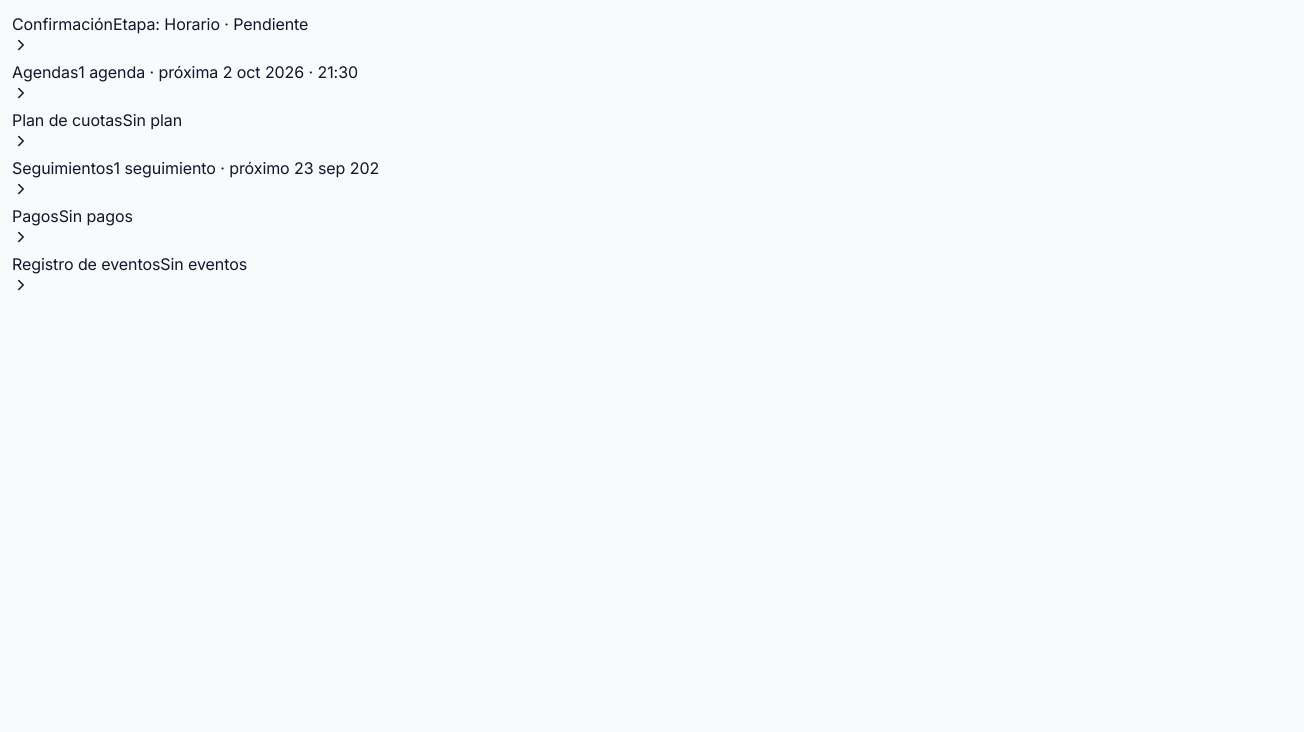
Test case: corregir una agenda en la fila › si el backend rechaza, el editor se queda abierto con lo elegido y dice por qué
Click the button "Agendas1 agenda · próxima 2 oct 2026 · 21:30": click(185, 81) [12,60,358,102]
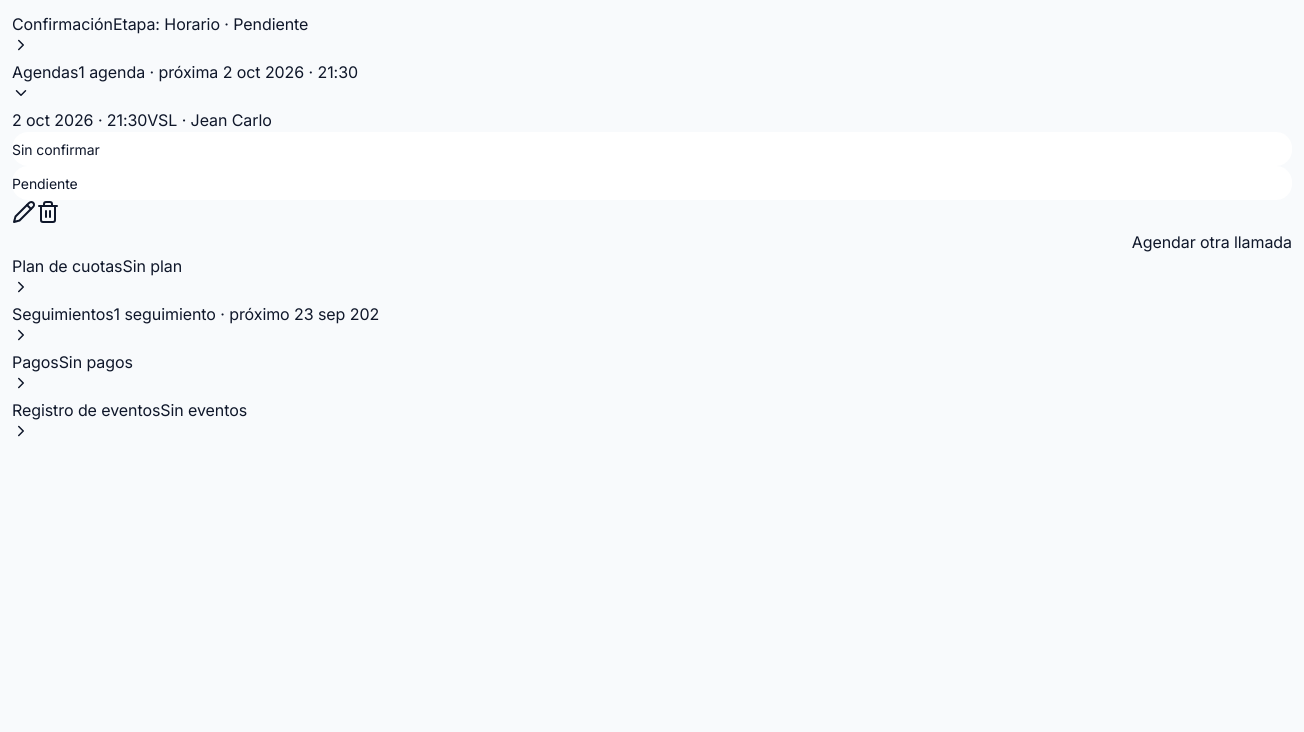
Click the button named "Corregir fecha, fuente y closer": click(24, 212) [12,200,36,224]
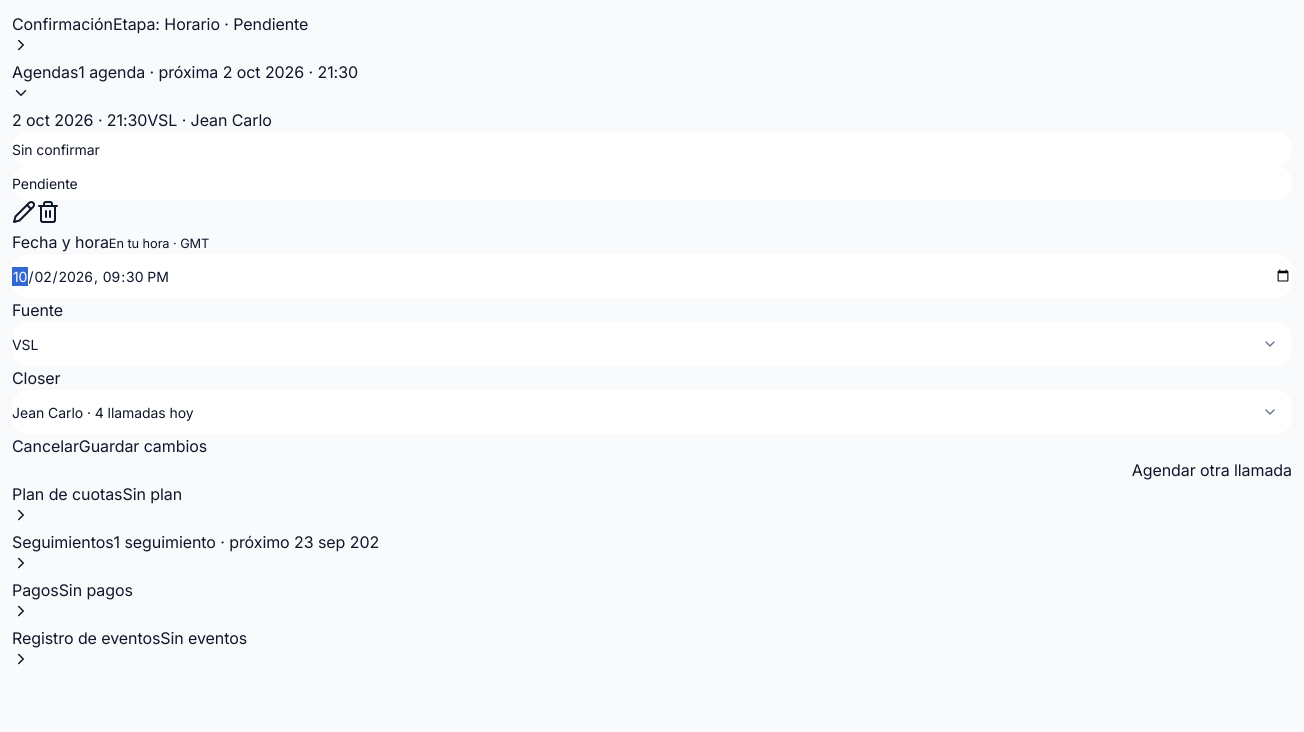
Select "Workshop" in the dropdown named "Fuente de la agenda": (652, 344) [12,322,1292,366]
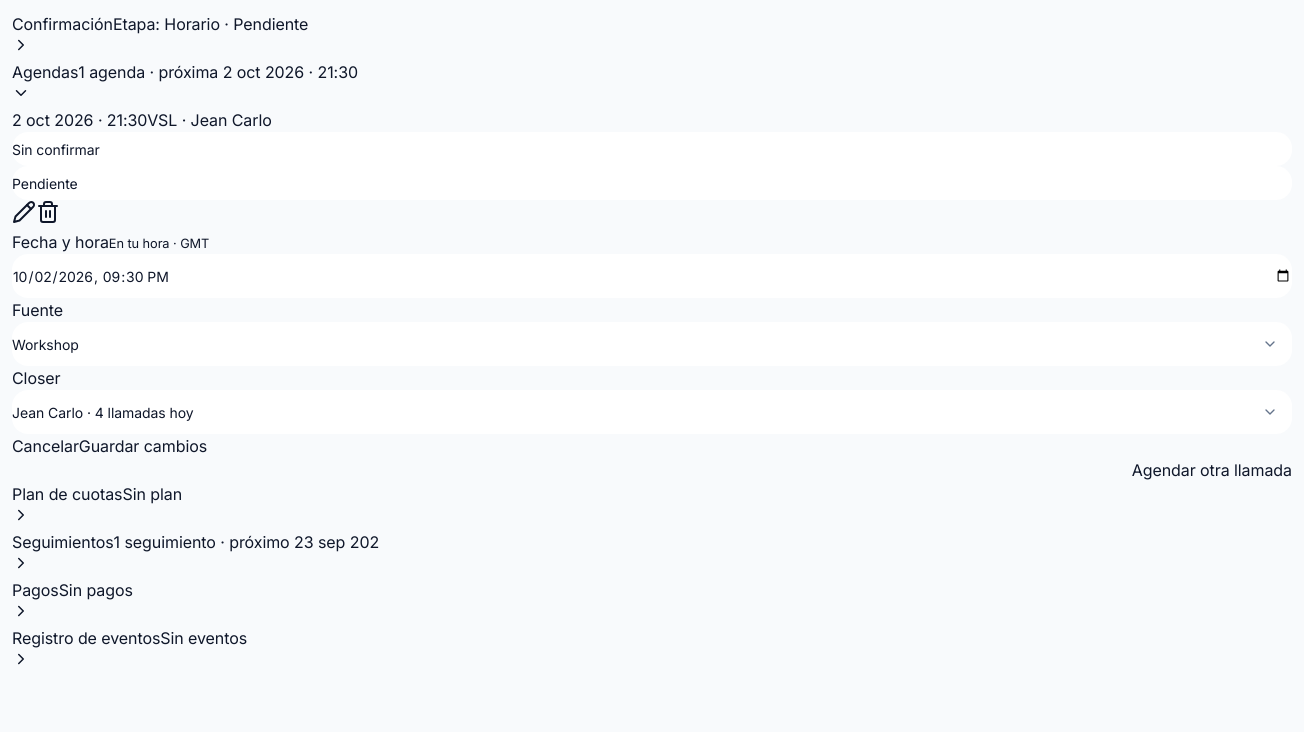
Click the button "Guardar cambios": click(143, 446) [79,434,207,458]
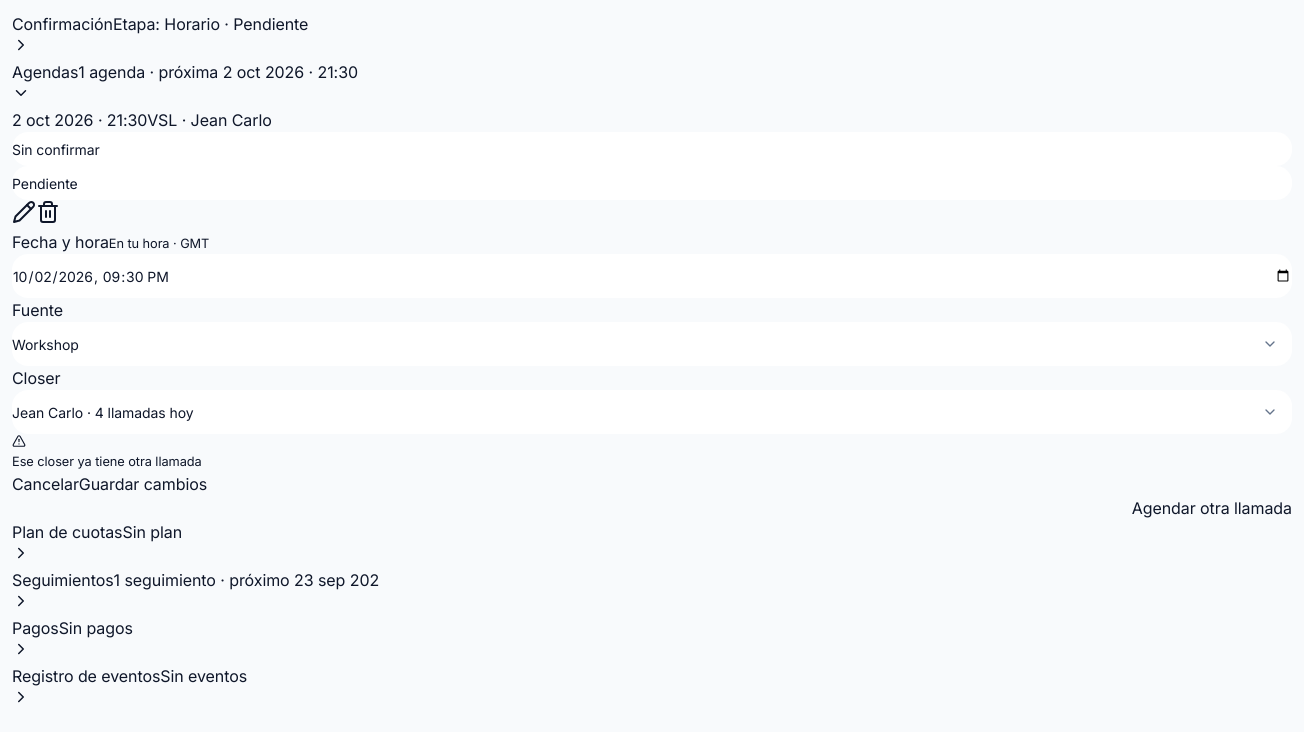
Result: the message reads "Ese closer ya tiene otra llamada" at [12,454,202,469]
